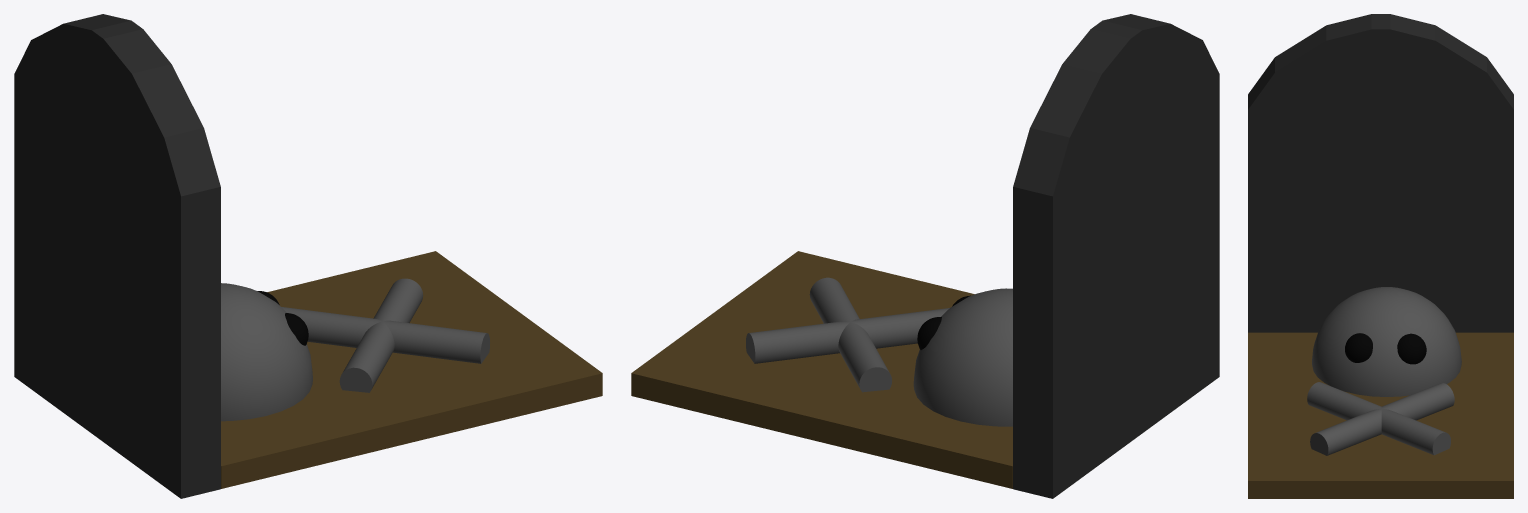
Rendered from tombe.fbx.
3 views of the same model, side by side, from view 1: azimuth 30°, elevation 25°; view 2: azimuth 150°, elevation 25°; view 3: azimuth 270°, elevation 25° (orthographic). The views are drawn at different scales.
Visible parts, largest first — view 1: Cube, Cube.001, Sphere, Cylinder.001, Cylinder; view 2: Cube, Cube.001, Sphere, Cylinder, Cylinder.001; view 3: Cube, Cube.001, Sphere, Cylinder.001, Cylinder, Sphere.002, Sphere.001.
Part boxes in pixels (box(x1,y1,x2,y2)): Cube: box(14, 14, 220, 498); Cube.001: box(221, 251, 602, 488); Sphere: box(221, 283, 312, 421); Cylinder.001: box(281, 307, 489, 363); Cylinder: box(339, 278, 423, 392); Cube: box(1013, 14, 1219, 498); Cube.001: box(631, 251, 1012, 488); Sphere: box(913, 288, 1012, 426); Cylinder: box(746, 308, 949, 363); Cylinder.001: box(809, 277, 891, 392); Cube: box(1248, 14, 1513, 332); Cube.001: box(1248, 332, 1513, 498); Sphere: box(1312, 287, 1461, 396); Cylinder.001: box(1310, 383, 1454, 455); Cylinder: box(1307, 382, 1450, 455); Sphere.002: box(1397, 333, 1426, 364); Sphere.001: box(1345, 333, 1372, 362).
Size of the model in its own units: 292 by 267 by 200.
